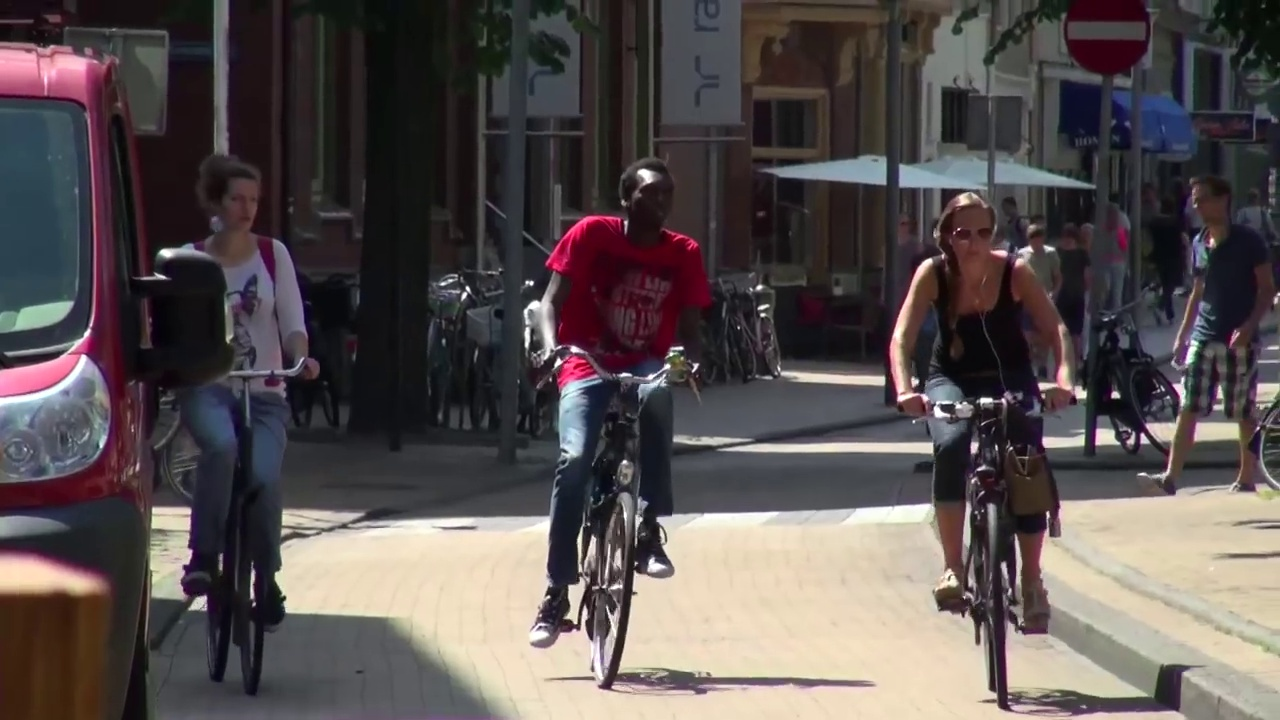cyclist_front: (505, 146, 720, 711), (158, 144, 324, 709), (901, 193, 1071, 713)
